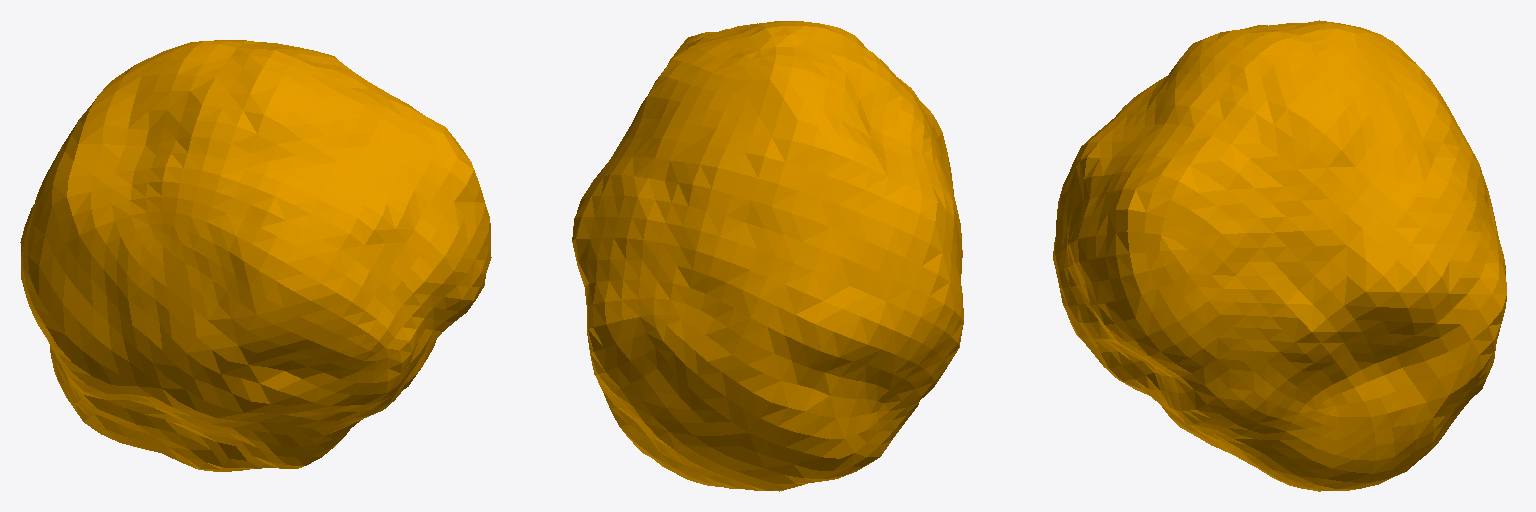
robot.urdf — rock:
<?xml version="1.0" ?>
<robot name="rock">
  <link name="rock">
    <inertial>
      <mass value="0.25"/>
      <origin rpy="0 0 0" xyz="0 0 0"/>
      <inertia ixx="0.00025" ixy="0" ixz="0" iyy="0.00025" iyz="0" izz="0.00025"/>
    </inertial>
    <collision name="rock_collision">
      <origin rpy="0 0 0" xyz="0 0 0"/>
      <geometry>
        <mesh filename="package://rocks/collision/36.stl" scale="1 1 1"/>
      </geometry>
    </collision>
    <visual name="rock_visual">
      <origin rpy="0 0 0" xyz="0 0 0"/>
      <geometry>
        <mesh filename="package://rocks/visual/36.dae" scale="1 1 1"/>
      </geometry>
    </visual>
  </link>
</robot>

--- Render facts (derived) ---
Views: 3 orthographic renders of the robot side by side, from view 1: azimuth 30°, elevation 25°; view 2: azimuth 150°, elevation 25°; view 3: azimuth 270°, elevation 25°.
Model rock with 1 links and 0 joints (none), rooted at rock, posed every joint at zero.
Visible links, largest first — view 1: rock; view 2: rock; view 3: rock.
Link boxes in pixels (x1,y1,x2,y2): rock: (20,40,491,471); rock: (572,21,963,491); rock: (1053,20,1506,491).
Bounding box of the posed robot: 0.0819 × 0.0856 × 0.09 m (x, y, z).
1 mesh visuals loaded from 1 distinct referenced files (1 Collada DAE).